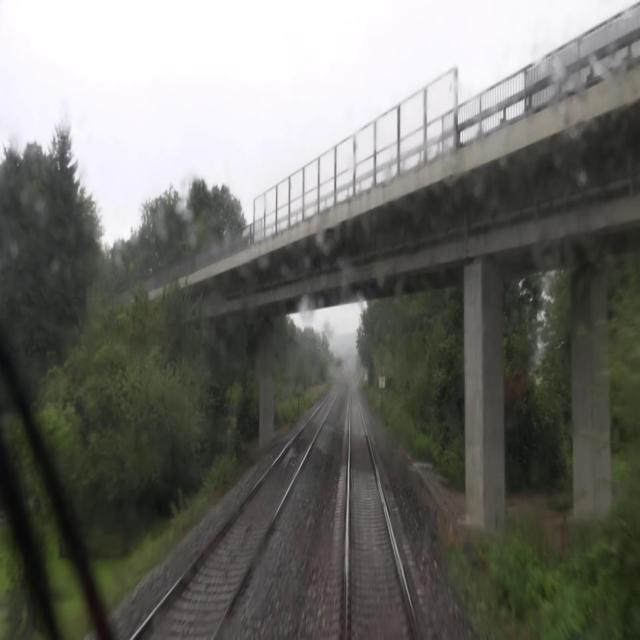rail-track: (137, 389, 337, 639), (349, 386, 413, 639)
